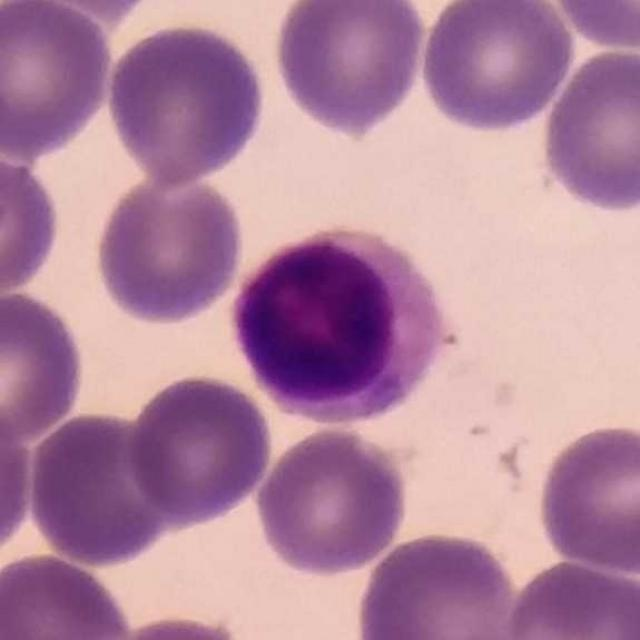Lymphocyte: (223, 220, 464, 431)
RBC: (102, 18, 270, 188), (21, 407, 183, 569), (90, 168, 247, 327), (251, 424, 412, 579), (122, 368, 276, 528), (269, 0, 430, 139), (416, 0, 579, 135), (351, 525, 531, 640), (0, 0, 116, 160), (536, 43, 640, 216), (532, 418, 640, 576), (0, 286, 89, 445), (0, 550, 135, 640), (501, 555, 640, 640), (0, 150, 66, 301), (0, 401, 37, 564), (547, 0, 640, 52), (92, 611, 258, 640), (10, 0, 164, 19)
